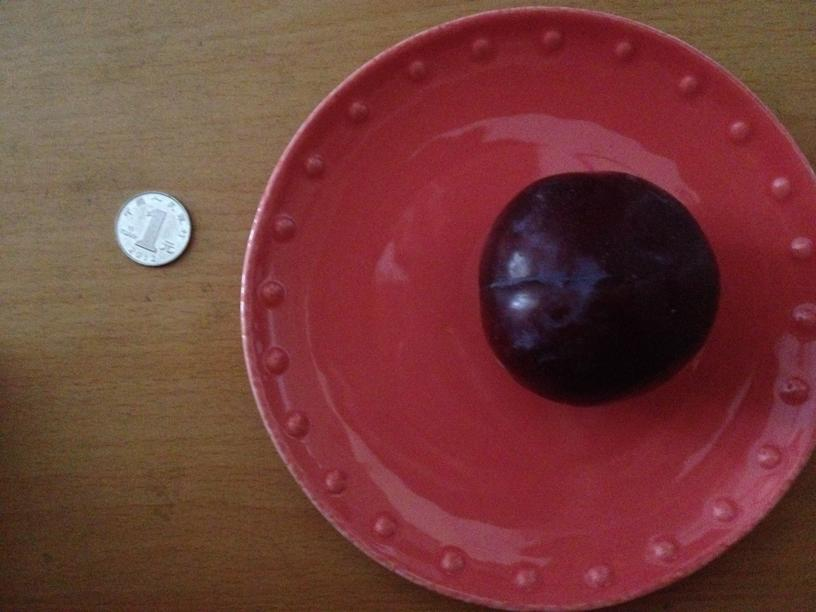coin: (116, 195, 191, 265)
plum: (486, 174, 715, 406)
